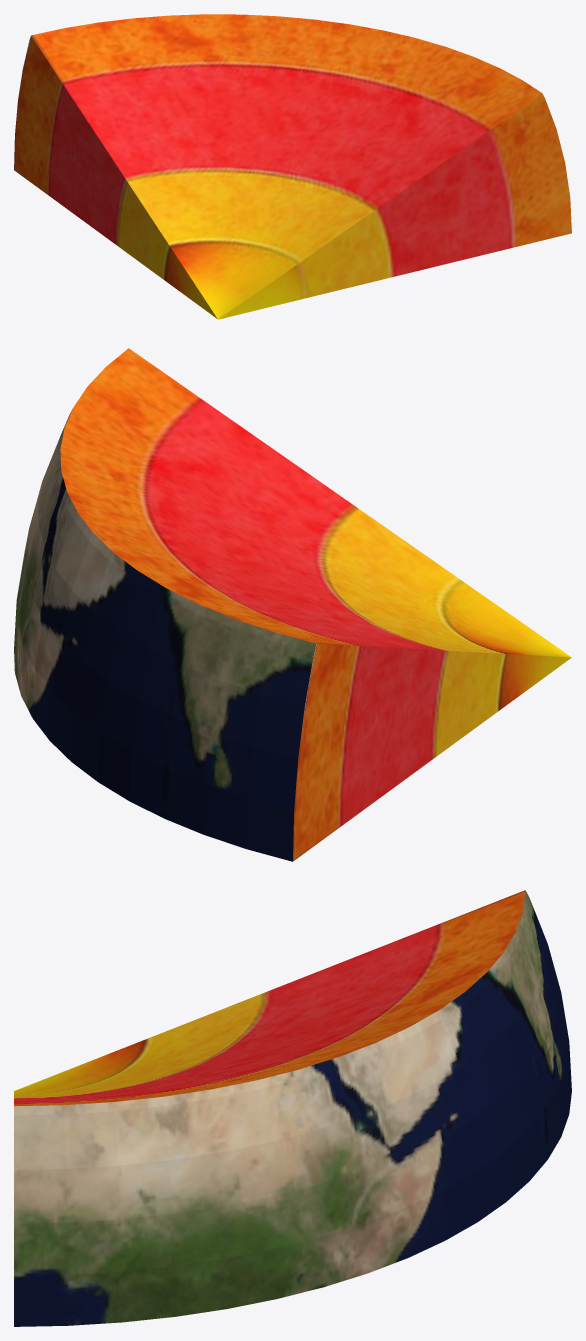
The model's file is 4_Slice_low.glb.
3 renders of one model, top to bottom at view 1: azimuth 30°, elevation 25°; view 2: azimuth 150°, elevation 25°; view 3: azimuth 270°, elevation 25°, orthographic. The views are drawn at different scales.
Parts seen in each view (by area): view 1: Slice_low; view 2: Slice_low; view 3: Slice_low.
Part boxes in pixels (x1,y1,x2,y2): Slice_low: (14,14,571,319); Slice_low: (14,348,571,861); Slice_low: (14,890,571,1326).
Size of the model in its own units: 5 by 1.99 by 5.
Materials: 2 (2 with a texture image).
